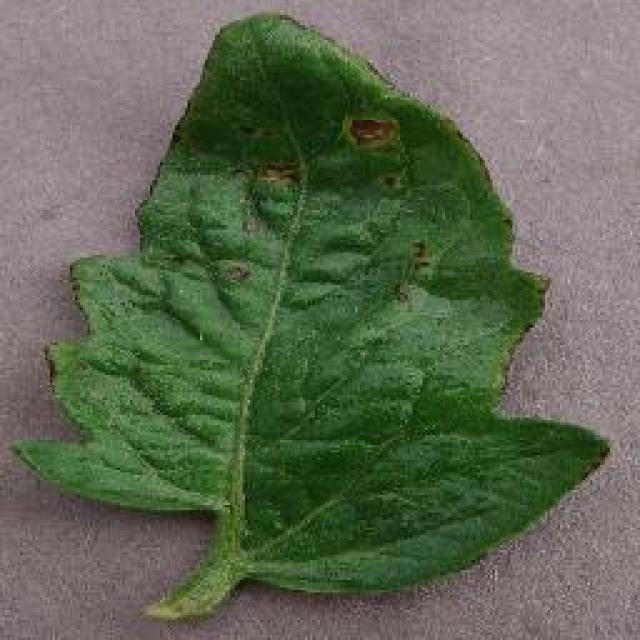Tomato___Bacterial_spot: (5, 8, 622, 619)
